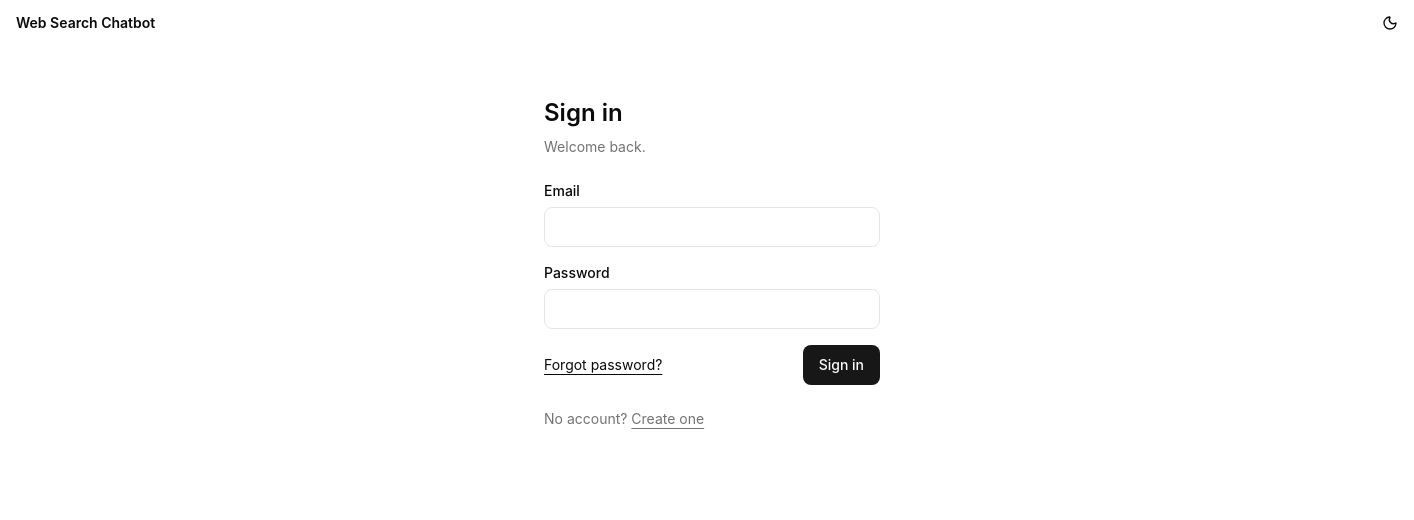
Test: sign-in form › explains a rate limit in its own words
Expected: the heading "Sign in" is shown, x1=544 y1=98 x2=623 y2=127
Step 1. Type "user@example.com" into the field labelled "Email" → {"x": 712, "y": 227}, box x1=544 y1=207 x2=880 y2=247
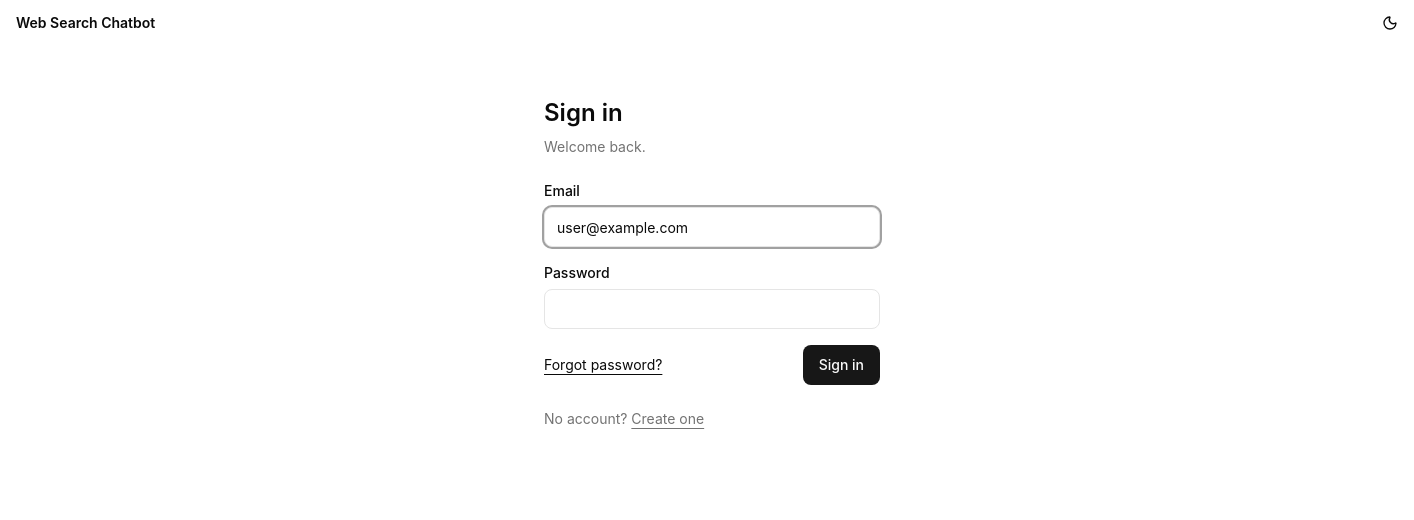
Step 2. Type "correct-horse-battery-staple" into the password field labelled "Password" → {"x": 712, "y": 309}, box x1=544 y1=289 x2=880 y2=329
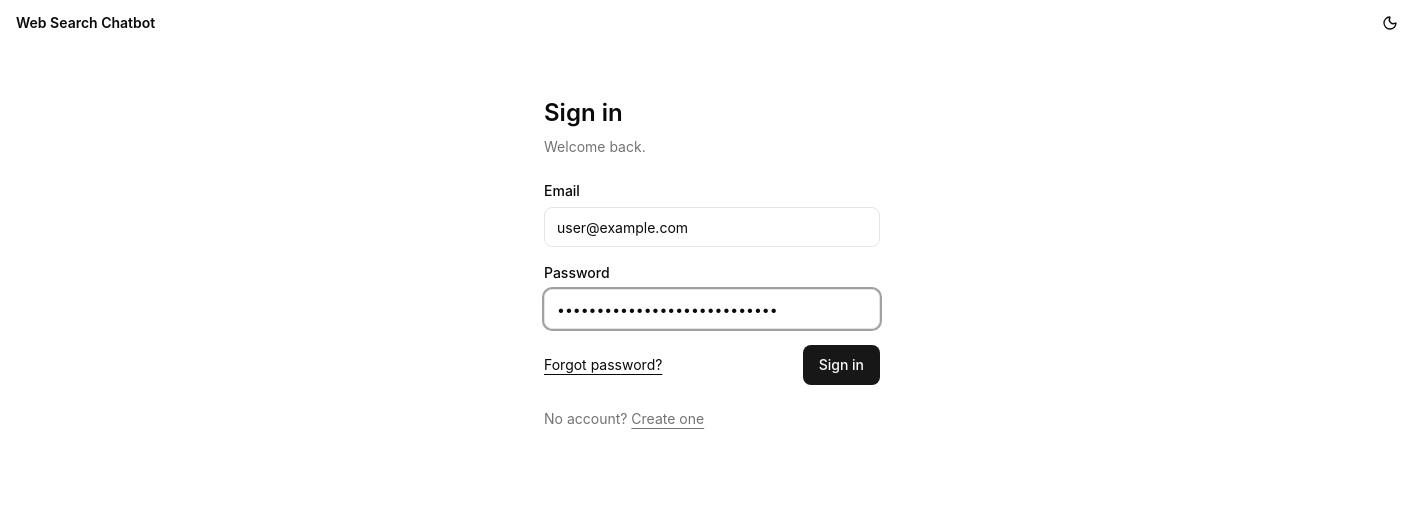
Step 3. Click the button "Sign in" → {"x": 841, "y": 365}, box x1=803 y1=345 x2=880 y2=385
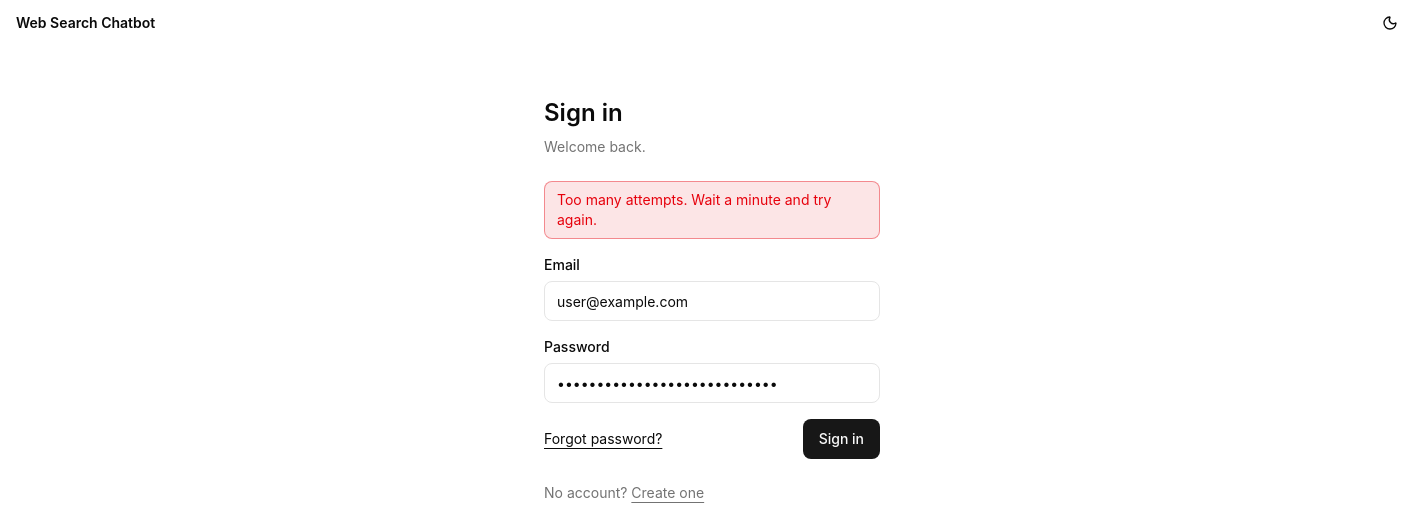
Expected: the message shows "Too many attempts", x1=557 y1=191 x2=831 y2=228
